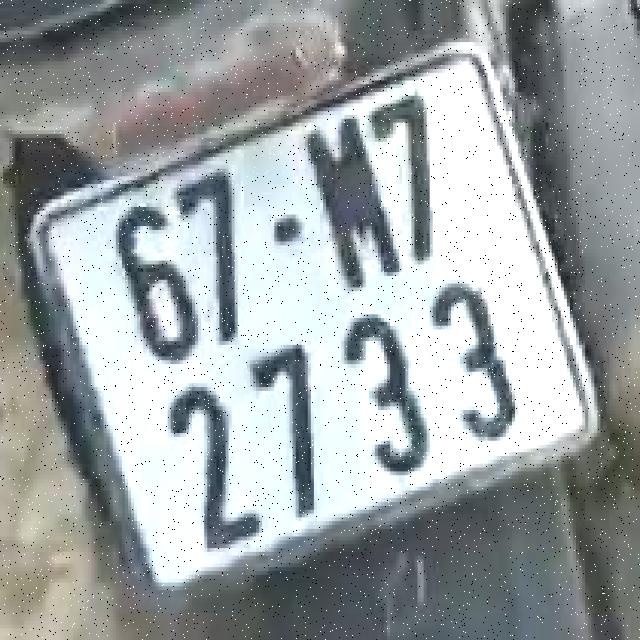2: (156, 370, 272, 568)
3: (414, 257, 537, 462), (326, 290, 449, 489)
6: (102, 182, 212, 378)
7: (236, 325, 341, 535), (360, 77, 462, 285), (165, 159, 262, 358)
M: (292, 104, 412, 307)
